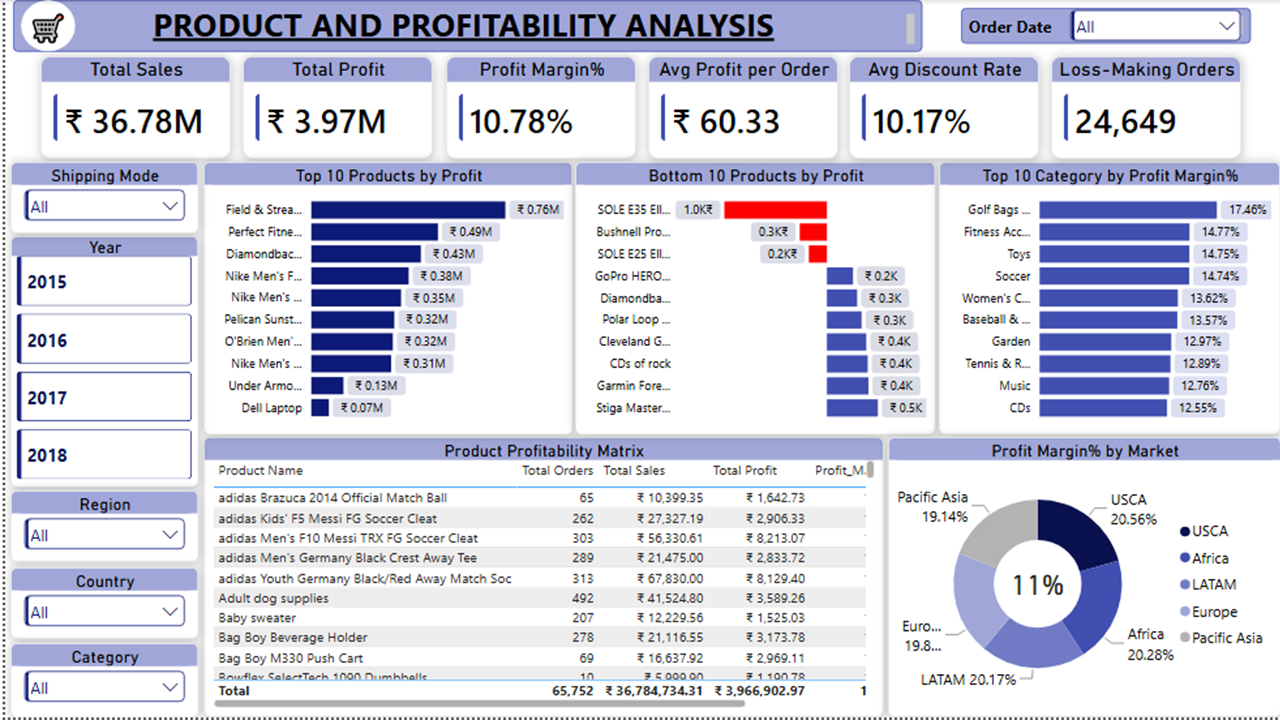

This screenshot's page, from the dashboard's own definition file:
{"tool":"powerbi","page":{"name":"Product and Profitability Analysis","canvas":[1280,720],"ordinal":2},"visuals":[{"type":"tableEx","title":"Product Profitability Matrix","fields":{"Values":["DataCoSupplyChainDataset.Product Name","Measures Table.Total Orders","Measures Table.Total Sales","Measures Table.Total Profit","Measures Table.Profit_Margin%","Sum(DataCoSupplyChainDataset.Discount_rate%)"]},"box":[198.7,439.2,682.6,280.8],"z":0},{"type":"cardVisual","title":"Total Sales","fields":{"Data":["Measures Table.Total Sales"]},"box":[35.4,56.6,191.3,103.2],"z":1000},{"type":"cardVisual","title":"Total Profit","fields":{"Data":["Measures Table.Total Profit"]},"box":[238.7,56.6,191.3,103.2],"z":2000},{"type":"barChart","title":"Top 10 Products by Profit","fields":{"Category":["DataCoSupplyChainDataset.Product Name"],"Y":["Measures Table.Total Profit"]},"box":[198.7,162.7,371,273.6],"z":3000},{"type":"cardVisual","title":"Profit Margin%","fields":{"Data":["Measures Table.Profit_Margin%"]},"box":[442.4,56.6,191.3,103.2],"z":4000},{"type":"clusteredBarChart","title":"Bottom 10 Products by Profit","fields":{"Category":["DataCoSupplyChainDataset.Product Name"],"Y":["Measures Table.Total Profit"]},"box":[572.6,162.4,362,273.9],"z":5000},{"type":"cardVisual","title":"Avg Profit per Order","fields":{"Data":["Measures Table.Avg_profit_per_order"]},"box":[645.1,56.6,191.3,103.2],"z":6000},{"type":"clusteredBarChart","title":"Top 10 Category by Profit Margin%","fields":{"Category":["DataCoSupplyChainDataset.Category Name"],"Y":["Measures Table.Profit_Margin%"]},"box":[937.3,162.4,342.7,273.9],"z":7000},{"type":"cardVisual","title":"Avg Discount Rate","fields":{"Data":["Measures Table.Avg Discount Rate per Order"]},"box":[847.4,56.6,191.3,103.2],"z":8000},{"type":"cardVisual","title":"Loss-Making Orders","fields":{"Data":["Measures Table.Loss_making_orders"]},"box":[1049.8,56.6,191.3,103.2],"z":9000},{"type":"donutChart","title":"Profit Margin% by Market","fields":{"Category":["DataCoSupplyChainDataset.Market"],"Y":["Measures Table.Profit_Margin%"]},"box":[885.6,439.2,394.6,280.8],"z":10000},{"type":"advancedSlicerVisual","title":"Year","fields":{"Values":["Calendar_Table.Year"]},"box":[5.8,237.6,188.6,252],"z":11000},{"type":"slicer","title":"Region","fields":{"Values":["DataCoSupplyChainDataset.Order Region"]},"box":[5.8,492.5,188.6,72],"z":12000},{"type":"slicer","title":"Country","fields":{"Values":["DataCoSupplyChainDataset.Order Country"]},"box":[5.8,568.8,188.6,72],"z":13000},{"type":"textbox","box":[959,7.2,290.9,36],"z":14000},{"type":"slicer","title":"Order Date","fields":{"Values":["Calendar_Table.Date"]},"box":[1064.2,0,181.4,47.5],"z":15000},{"type":"slicer","title":"Category","fields":{"Values":["DataCoSupplyChainDataset.Category Name"]},"box":[5.8,645.1,188.6,74.9],"z":16000},{"type":"slicer","title":"Shipping Mode","fields":{"Values":["DataCoSupplyChainDataset.Shipping Mode"]},"box":[5.8,162.7,188.6,72],"z":17000},{"type":"textbox","box":[7.5,0,913,51.8],"z":18000},{"type":"shape","box":[16.2,0,54.8,51.7],"z":19000}]}

Visuals, with their boxes in screenshot pixels (x1, y1, x2, y2), scaled from the page's 1280x720 canvas onto the 1280x720 screenshot:
"Product Profitability Matrix" tableEx: box=[199, 439, 881, 719]
"Total Sales" cardVisual: box=[35, 57, 227, 160]
"Total Profit" cardVisual: box=[239, 57, 430, 160]
"Top 10 Products by Profit" barChart: box=[199, 163, 570, 436]
"Profit Margin%" cardVisual: box=[442, 57, 634, 160]
"Bottom 10 Products by Profit" clusteredBarChart: box=[573, 162, 935, 436]
"Avg Profit per Order" cardVisual: box=[645, 57, 836, 160]
"Top 10 Category by Profit Margin%" clusteredBarChart: box=[937, 162, 1279, 436]
"Avg Discount Rate" cardVisual: box=[847, 57, 1039, 160]
"Loss-Making Orders" cardVisual: box=[1050, 57, 1241, 160]
"Profit Margin% by Market" donutChart: box=[886, 439, 1279, 719]
"Year" advancedSlicerVisual: box=[6, 238, 194, 490]
"Region" slicer: box=[6, 492, 194, 564]
"Country" slicer: box=[6, 569, 194, 641]
textbox: box=[959, 7, 1250, 43]
"Order Date" slicer: box=[1064, 0, 1246, 48]
"Category" slicer: box=[6, 645, 194, 719]
"Shipping Mode" slicer: box=[6, 163, 194, 235]
textbox: box=[8, 0, 920, 52]
shape: box=[16, 0, 71, 52]
